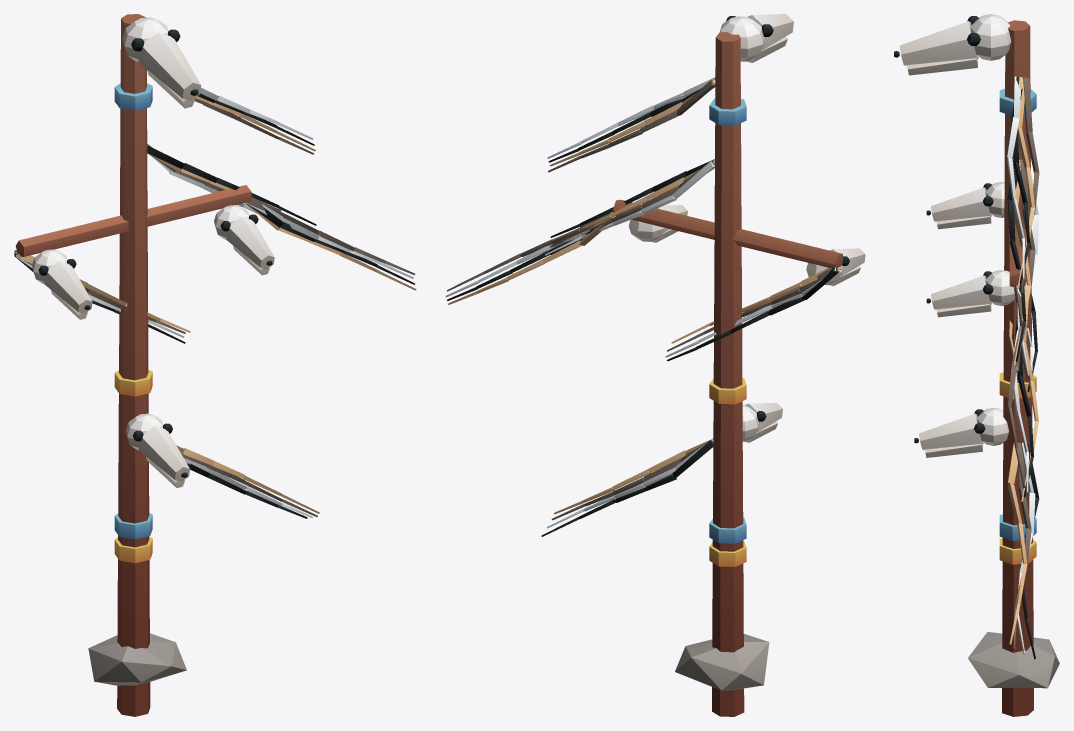
Rendered from horse_totem.glb.
3 renders of one model, left to right at view 1: azimuth 30°, elevation 25°; view 2: azimuth 150°, elevation 25°; view 3: azimuth 270°, elevation 25°, orthographic. The views are drawn at different scales.
Parts seen in each view (by area): view 1: horse_totem; view 2: horse_totem; view 3: horse_totem.
Part boxes in pixels (left/top/right/bottom): horse_totem: left=14, top=14, right=416, bottom=716; horse_totem: left=445, top=14, right=865, bottom=716; horse_totem: left=894, top=14, right=1059, bottom=716.
Size of the model in its own units: 3.53 by 5.88 by 1.27.
Materials: 1 (1 with a texture image).
